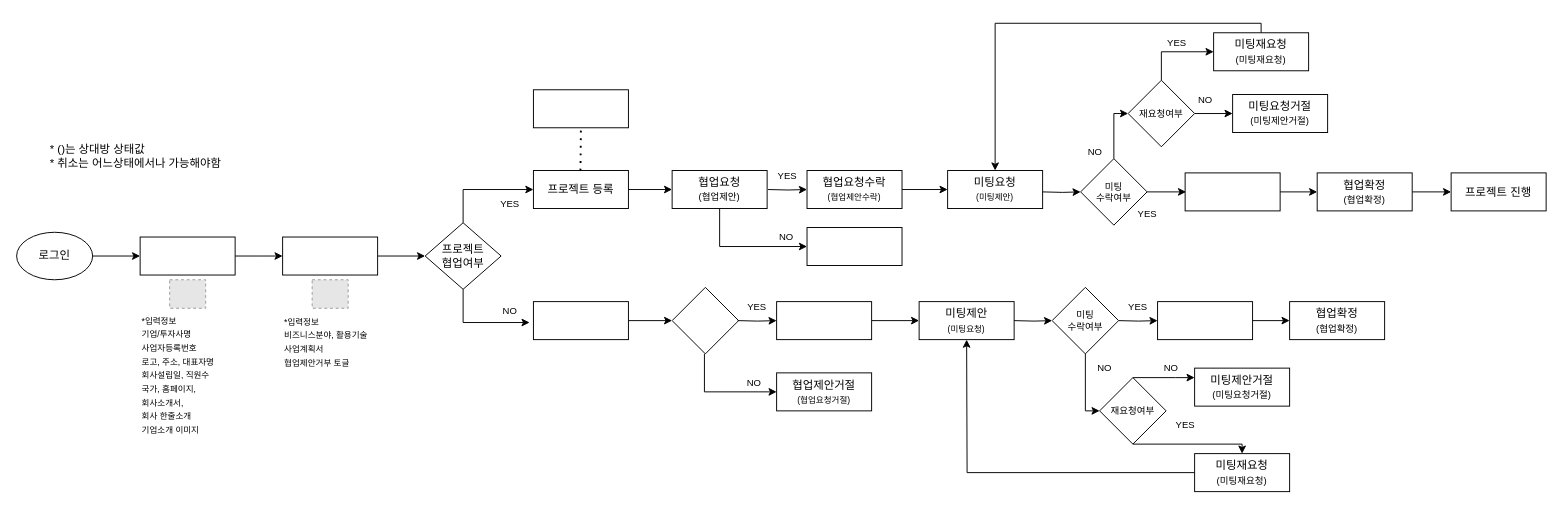
This 1563x508 diagram has some shape labels left out. Grey dashed boxes stand in for pictures. The centre of each missing label's shape, as x and y in pixels:
"미팅요청수락 (미팅제안수락)" belongs at (1232,191).
"미팅제안수락 (미팅요청수락)" belongs at (1205,320).
"추가정보등록" belongs at (187,255).
"프로젝트 삭제" belongs at (580,108).
"협업 수락여부" belongs at (705,320).
"협업 제안 (협업 요청)" belongs at (580,320).
"협업요청거절 (협업제안거절)" belongs at (854,246).
"협업정보등록" belongs at (330,255).
"협업제안수락 (협업요청수락)" belongs at (824,320).
